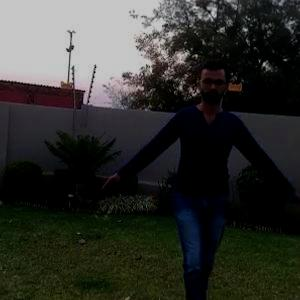land: (123, 70, 291, 298)
